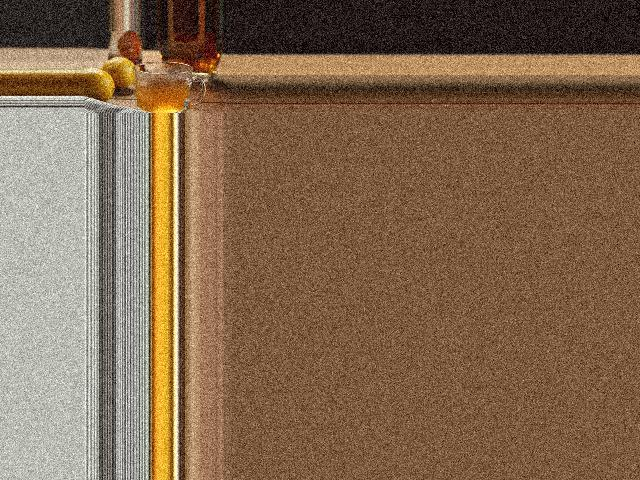lemon: (85, 71, 111, 100)
